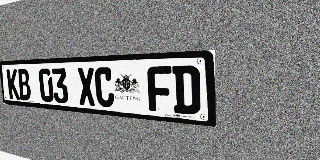0: (38, 68, 54, 103)
3: (51, 68, 69, 104)
B: (17, 69, 31, 101)
C: (94, 67, 115, 108)
D: (172, 65, 201, 115)
F: (147, 66, 173, 113)
K: (6, 69, 20, 100)
X: (77, 68, 96, 106)
